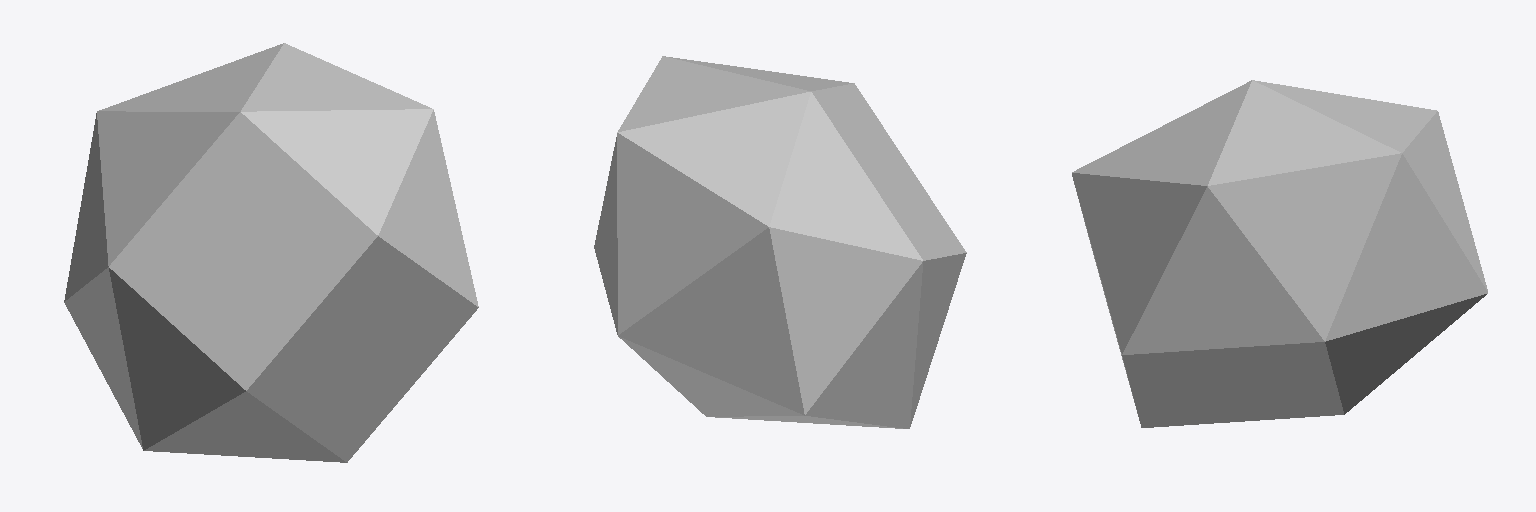
File: HebeSphenoMegaCorona.obj
The picture shows the model from 3 angles: view 1: azimuth 30°, elevation 25°; view 2: azimuth 150°, elevation 25°; view 3: azimuth 270°, elevation 25°; orthographic projection.
Visible parts, largest first — view 1: HebeSphenoMegaCorona; view 2: HebeSphenoMegaCorona; view 3: HebeSphenoMegaCorona.
Boxes of the visible parts, x1,y1,x2,y2 form: HebeSphenoMegaCorona: [64, 43, 478, 462]; HebeSphenoMegaCorona: [594, 56, 966, 428]; HebeSphenoMegaCorona: [1072, 80, 1487, 427].
Bounding box in the file's own units: 2.03 × 2.07 × 2.43.